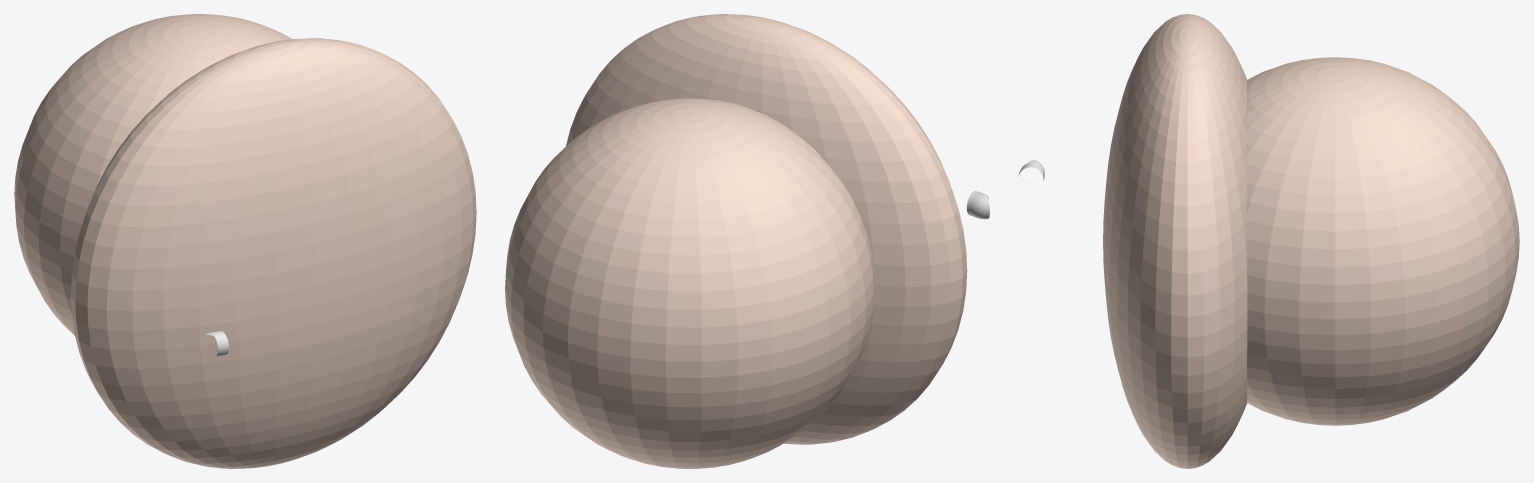
Rendered from fetus_week_12.glb.
The picture shows the model from 3 angles, left to right: view 1: azimuth 30°, elevation 25°; view 2: azimuth 150°, elevation 25°; view 3: azimuth 270°, elevation 25°; orthographic projection.
Visible parts, largest first — view 1: fetal_body_w12, fetal_head_w12; view 2: fetal_head_w12, fetal_body_w12, BézierCurve; view 3: fetal_head_w12, fetal_body_w12.
Boxes of the visible parts, bbox=[...] form: fetal_body_w12: bbox=[71, 38, 476, 468]; fetal_head_w12: bbox=[14, 14, 292, 335]; fetal_head_w12: bbox=[505, 98, 874, 468]; fetal_body_w12: bbox=[566, 14, 967, 444]; BézierCurve: bbox=[966, 191, 989, 219]; fetal_head_w12: bbox=[1246, 57, 1519, 425]; fetal_body_w12: bbox=[1103, 14, 1247, 468].
Size of the model in its own units: 0.2904 by 0.2904 by 0.3197.
